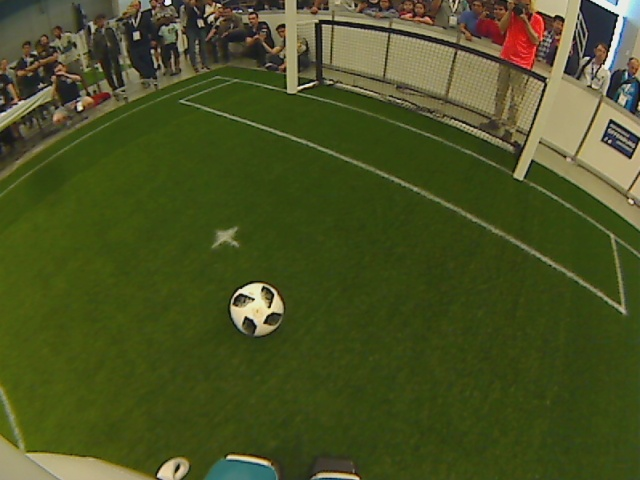ball: (225, 277, 286, 340)
